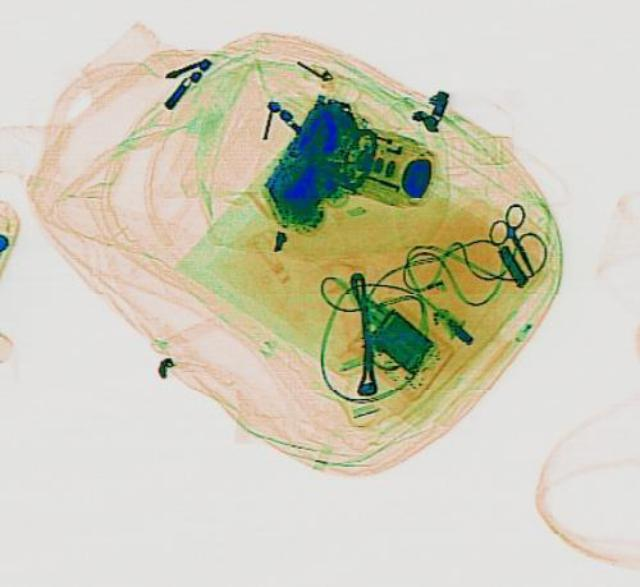Scissors: (474, 199, 554, 281)
